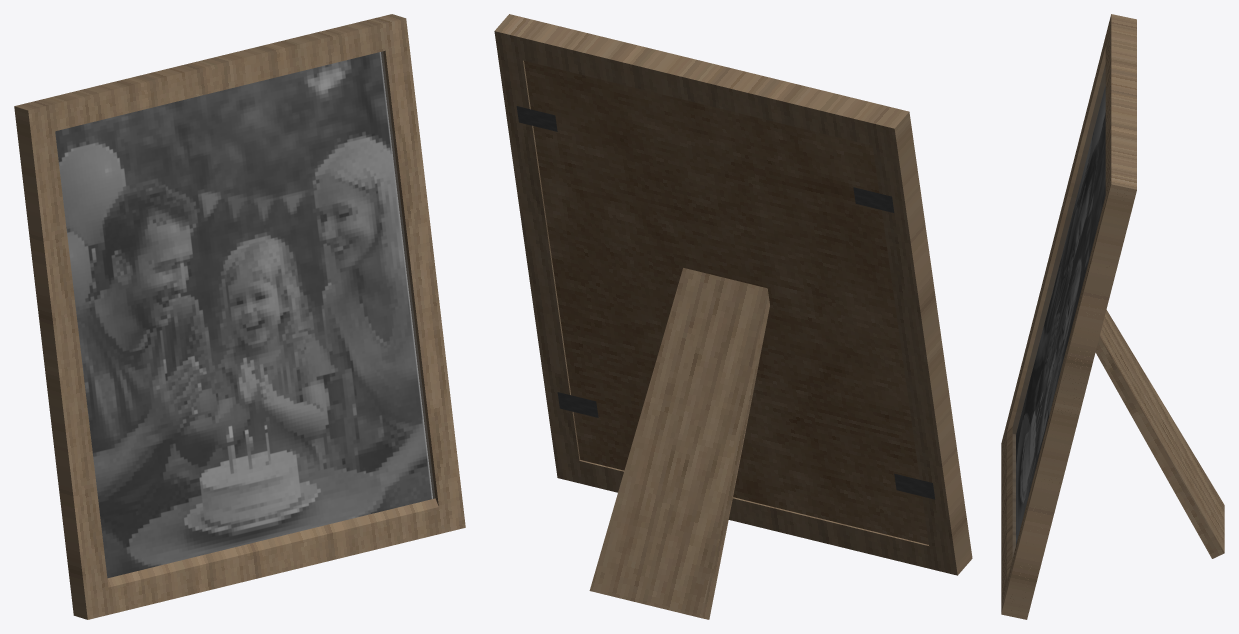
File: PhotoFrame.glb
3 renders of one model, left to right at view 1: azimuth 30°, elevation 25°; view 2: azimuth 150°, elevation 25°; view 3: azimuth 270°, elevation 25°, orthographic. The views are drawn at different scales.
Parts seen in each view (by area): view 1: Fame; view 2: BackCover, Fame, Lock1-col, Lock0-col, Lock3-col, Lock2-col; view 3: Fame, BackCover.
Part boxes in pixels (x1,y1,x2,y2): Fame: (14, 14, 465, 619); BackCover: (524, 61, 928, 619); Fame: (494, 14, 972, 575); Lock1-col: (516, 106, 557, 131); Lock0-col: (853, 187, 894, 212); Lock3-col: (557, 392, 598, 417); Lock2-col: (894, 473, 935, 499); Fame: (1001, 14, 1136, 619); BackCover: (1095, 310, 1224, 558).
Bounding box in the file's own units: 0.3835 × 0.4585 × 0.2127.
5 materials, 4 textured.
